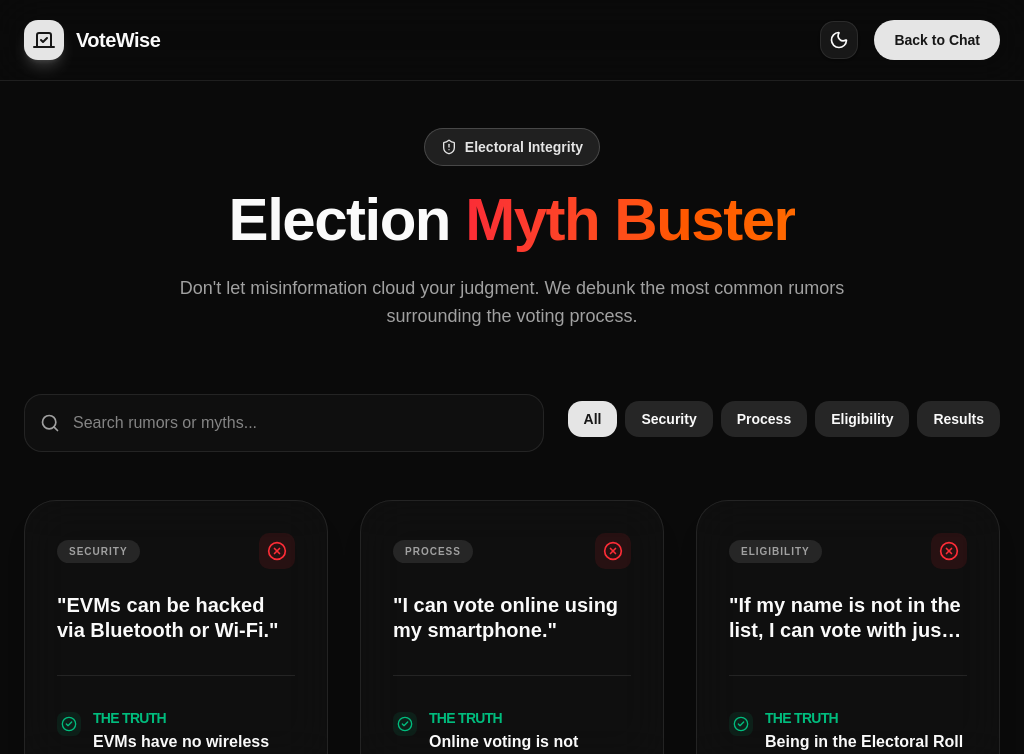
it: MythBusterPage › filters myths based on category
This screenshot has width=1024, height=754.
Click the tab "Security" at (669, 419), box left=626, top=401, right=713, bottom=437
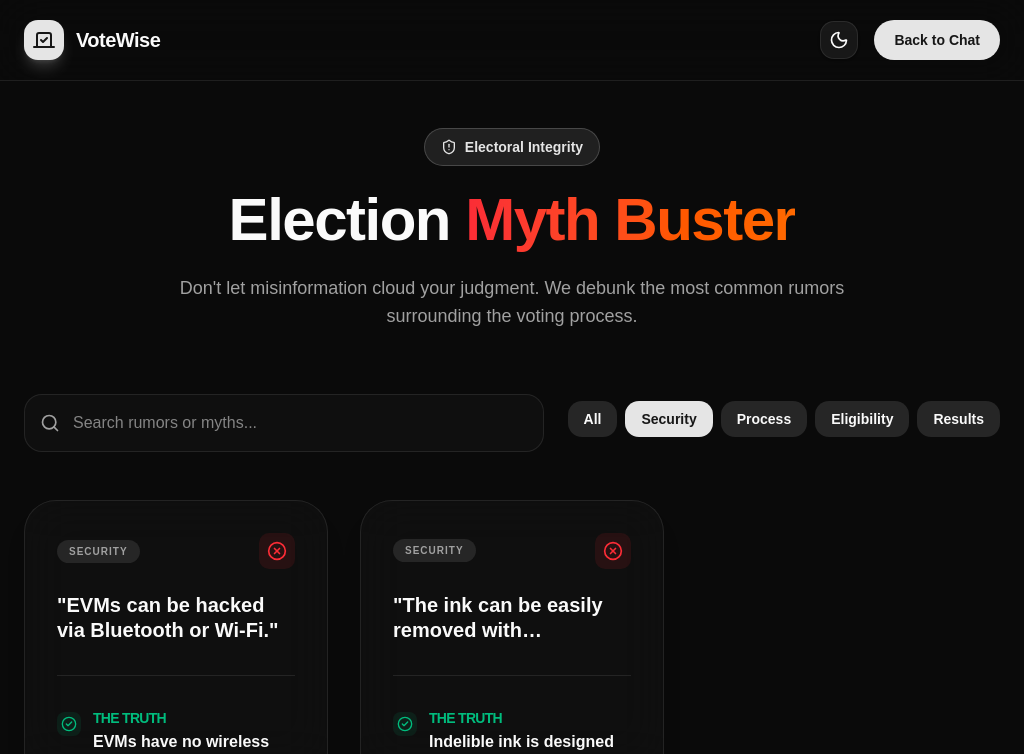
Expected: the heading "\"EVMs can be hacked via Bluetooth or Wi-Fi.\"" is shown, left=57, top=593, right=295, bottom=643
Now the heading "I can vote online using my smartphone" is gone
